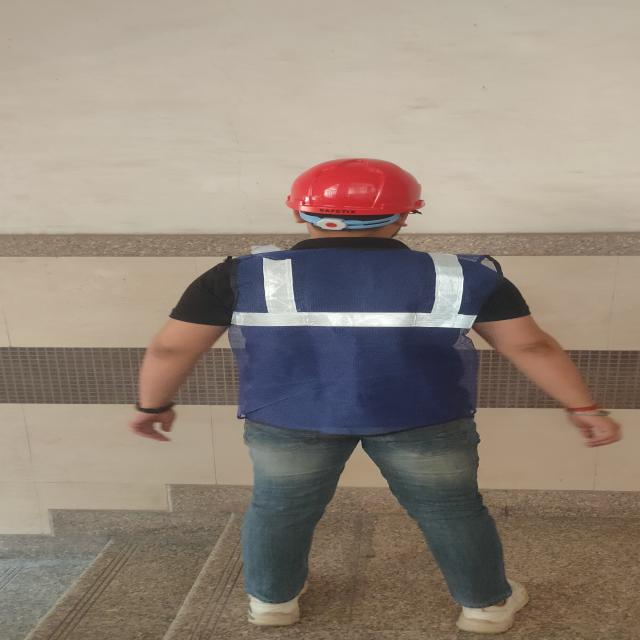safe: (227, 158, 508, 635)
